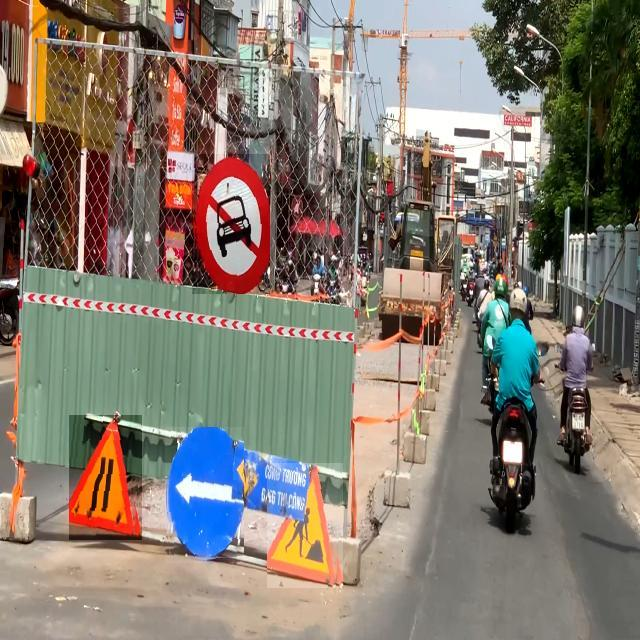P-103a: (192, 154, 270, 294)
R-301c: (165, 427, 244, 563)
W-203b: (69, 415, 142, 540)
W-227: (267, 463, 343, 588)
